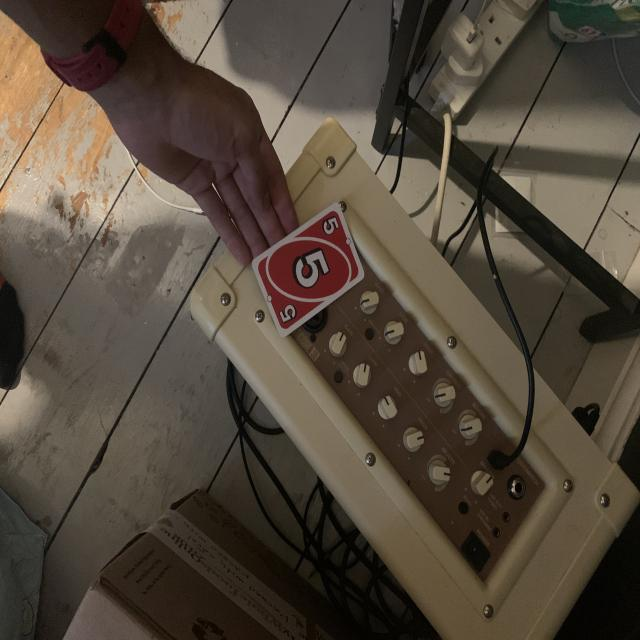lred-5: (319, 214, 341, 239)
